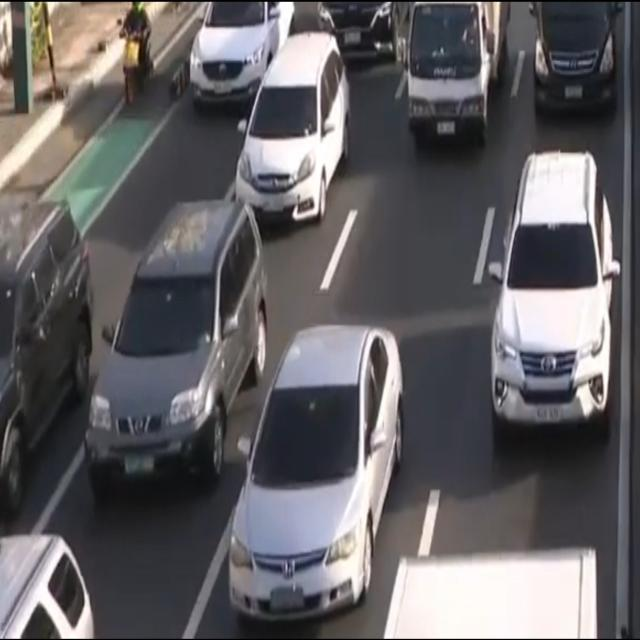Motorcycle: (120, 0, 151, 122)
SUV: (82, 199, 268, 503), (485, 149, 620, 456), (0, 197, 91, 514), (233, 28, 353, 227), (533, 0, 621, 119)
Sedan: (228, 326, 404, 623), (190, 0, 300, 108)
Truck: (407, 0, 509, 151)
